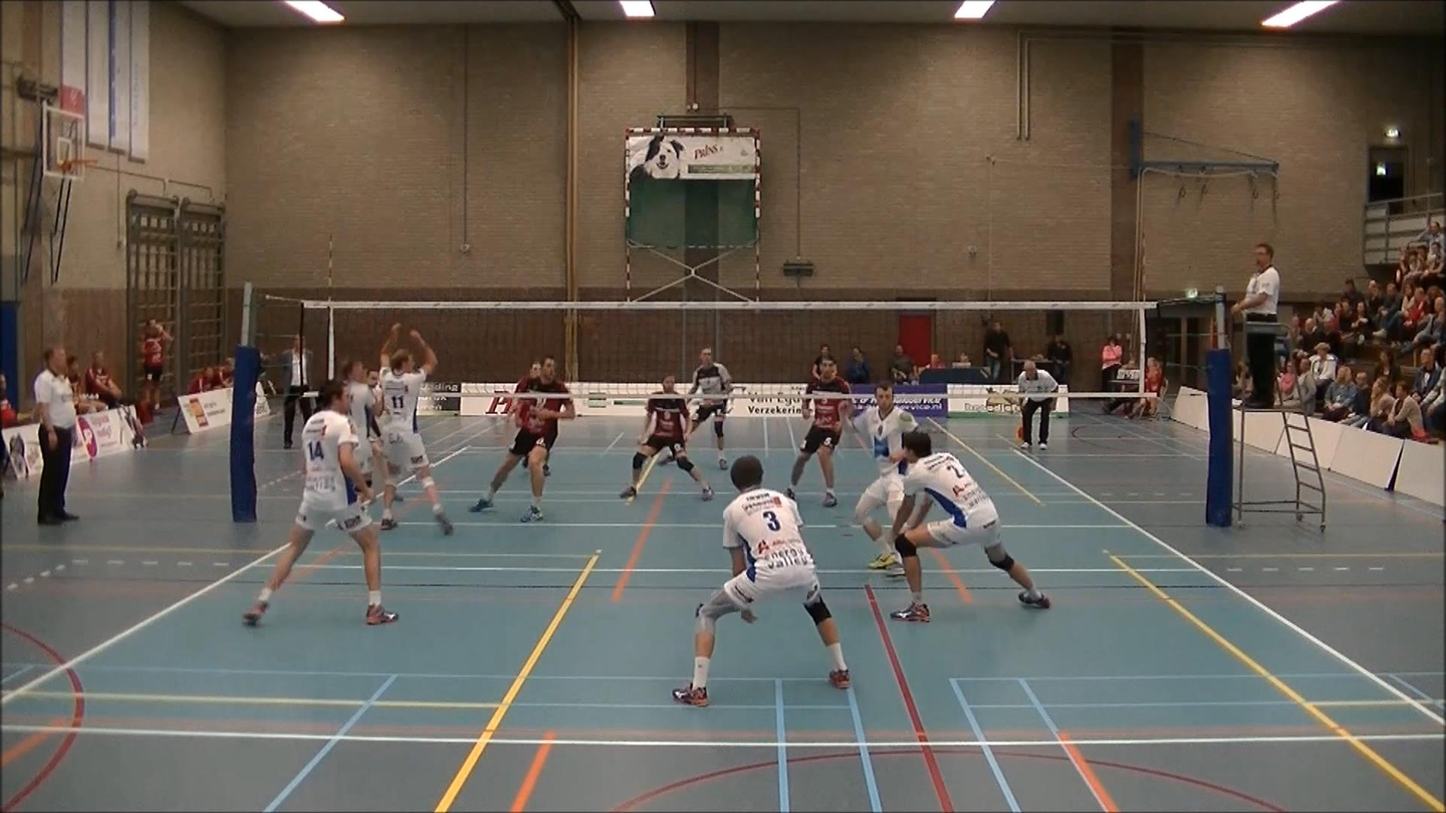Dig: (879, 431, 1060, 621)
Player: (673, 455, 850, 705), (243, 380, 398, 625), (469, 356, 575, 522), (380, 323, 453, 534), (853, 382, 917, 569), (620, 375, 713, 500), (786, 357, 850, 507), (343, 360, 385, 487), (689, 348, 732, 468), (367, 370, 388, 470), (543, 432, 557, 476)
